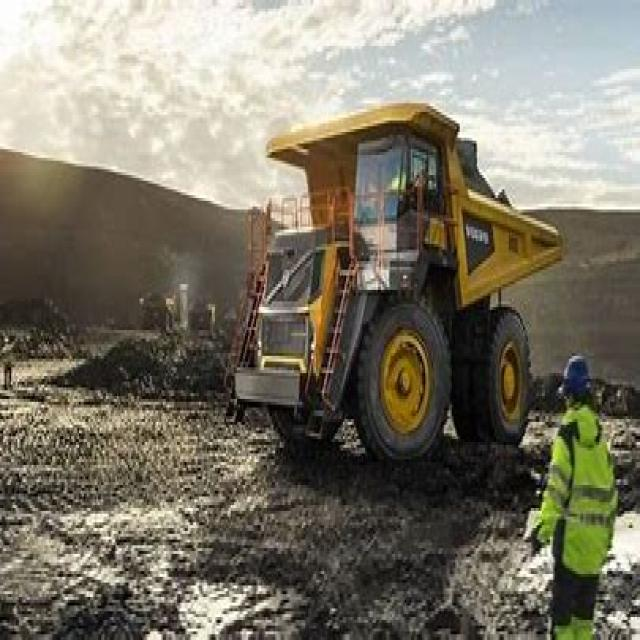dump_truck: (222, 92, 560, 456)
